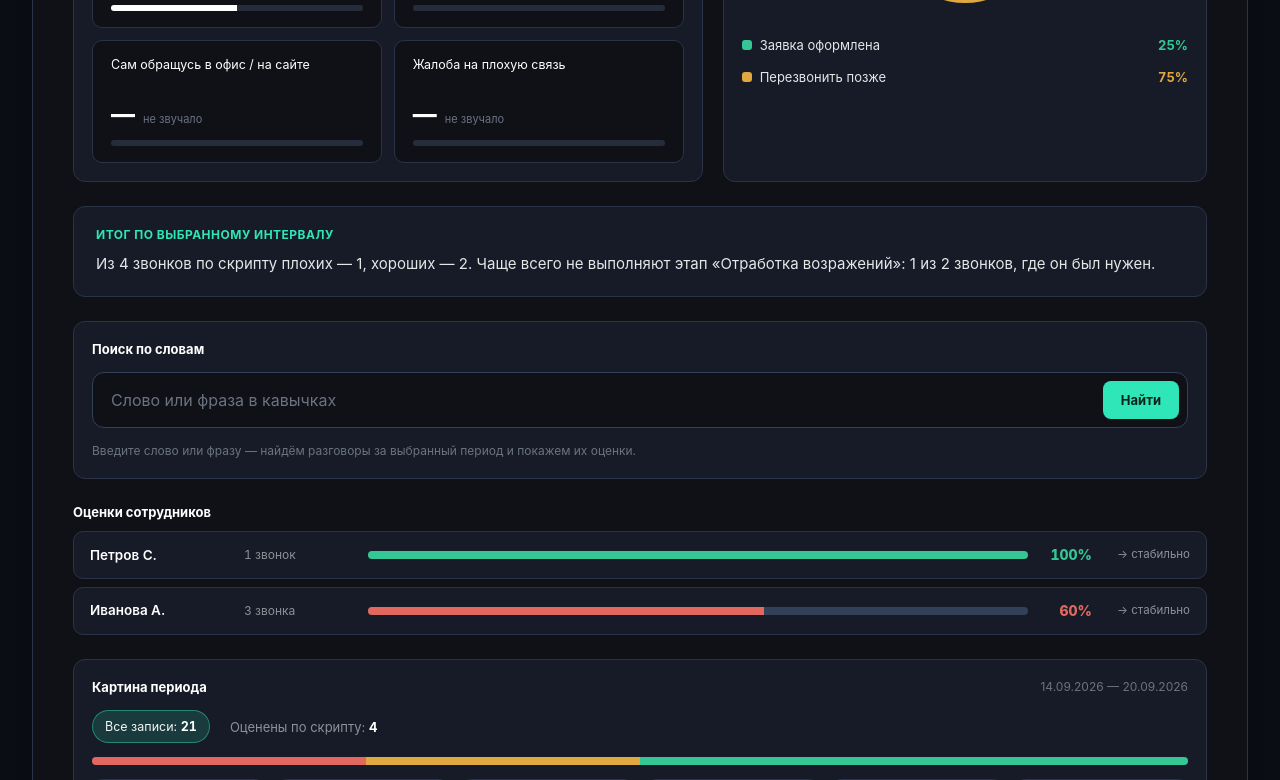
Test: поиск по словам › без запроса не ищет, а после ввода — ищет и запоминает запрос
(page scrolled)
Expected: the text "Введите слово или фразу" is shown, [92,443,636,458]
Type " паспорт " into the field named "Слова для поиска в разговорах". click: (601, 400)
box: [111,382,1091,418]
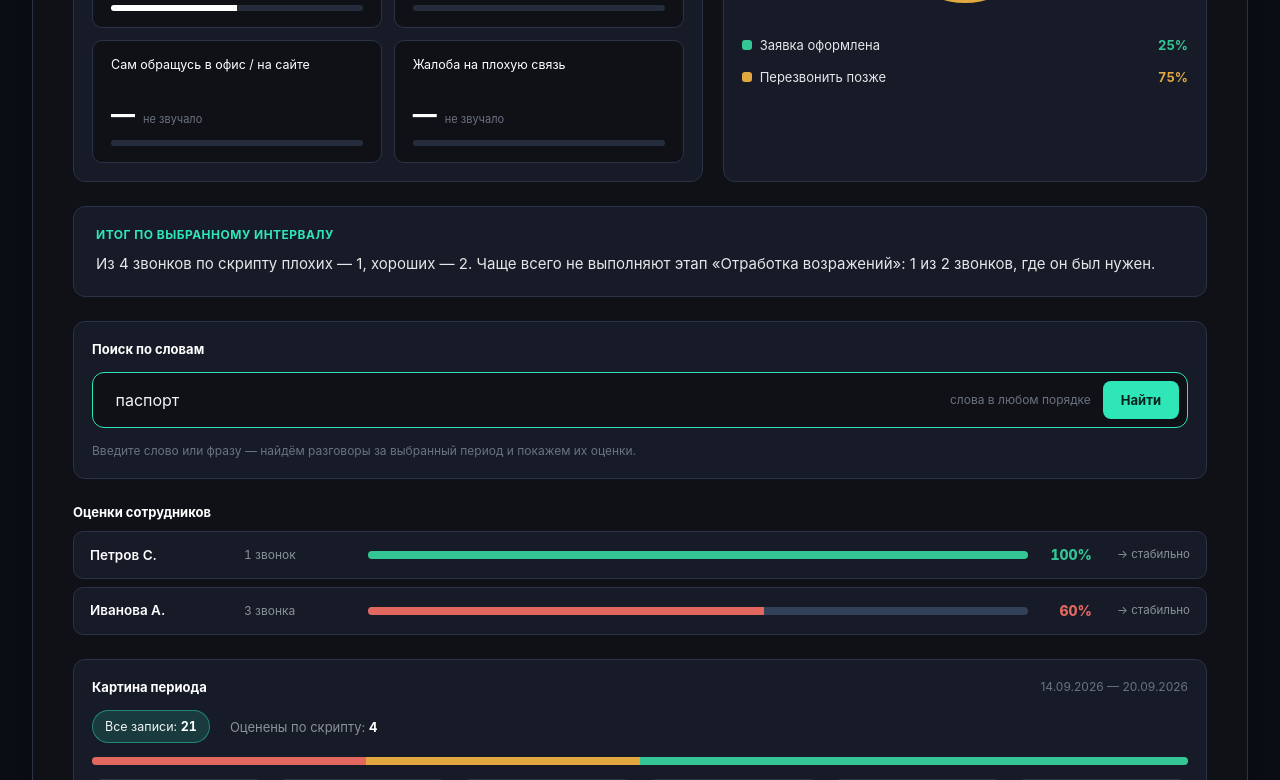
Click the button "Найти". click: (1141, 400)
box: [1103,381,1179,419]
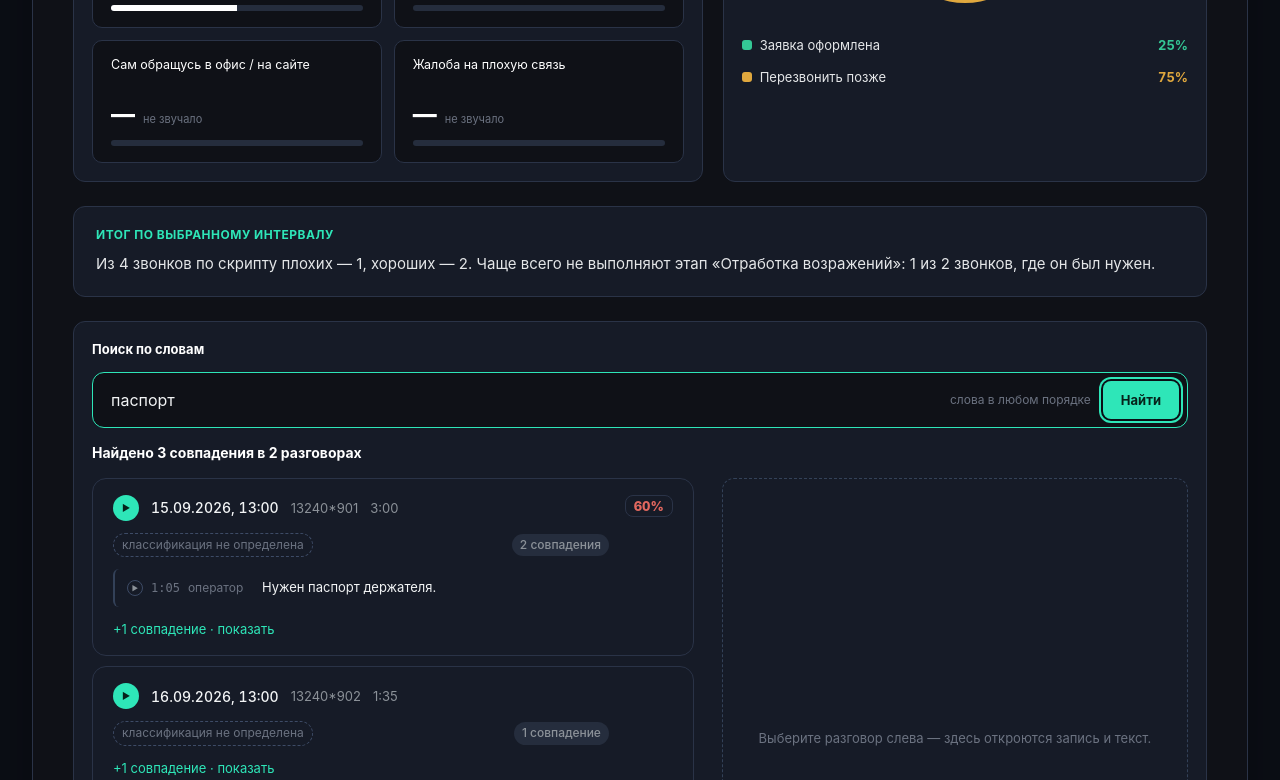
Expected: the text "60%" is shown, [625,495,673,517]
